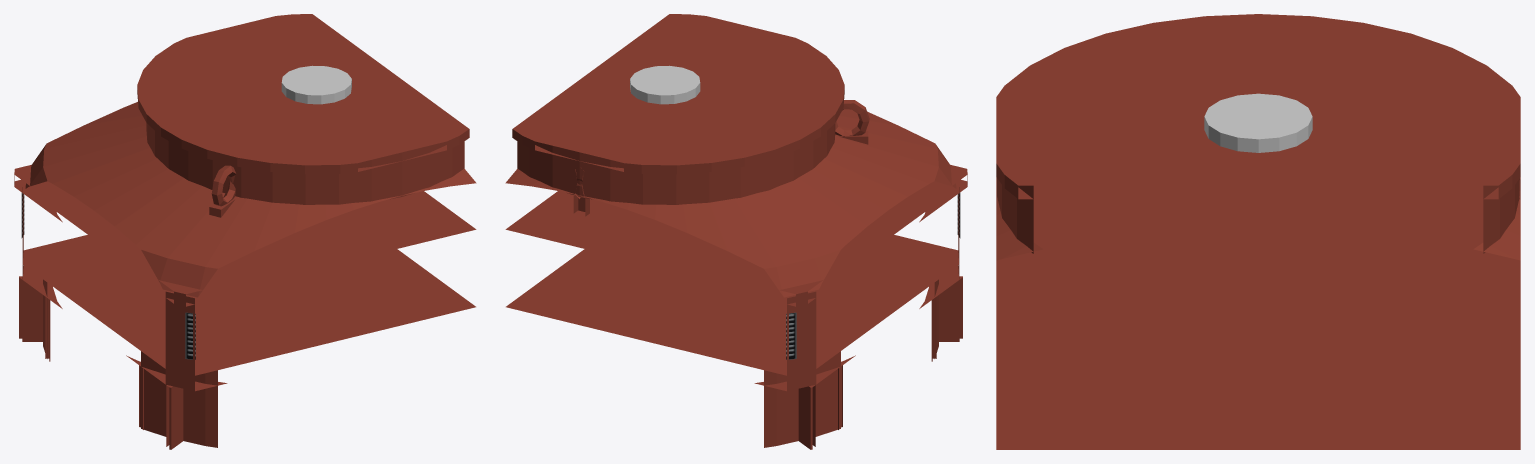
File: cell_95.obj
The picture shows the model from 3 angles, left to right: view 1: azimuth 30°, elevation 25°; view 2: azimuth 150°, elevation 25°; view 3: azimuth 270°, elevation 25°; orthographic projection. The views are drawn at different scales.
Bounding box in the file's own units: 1 × 0.836 × 1.
